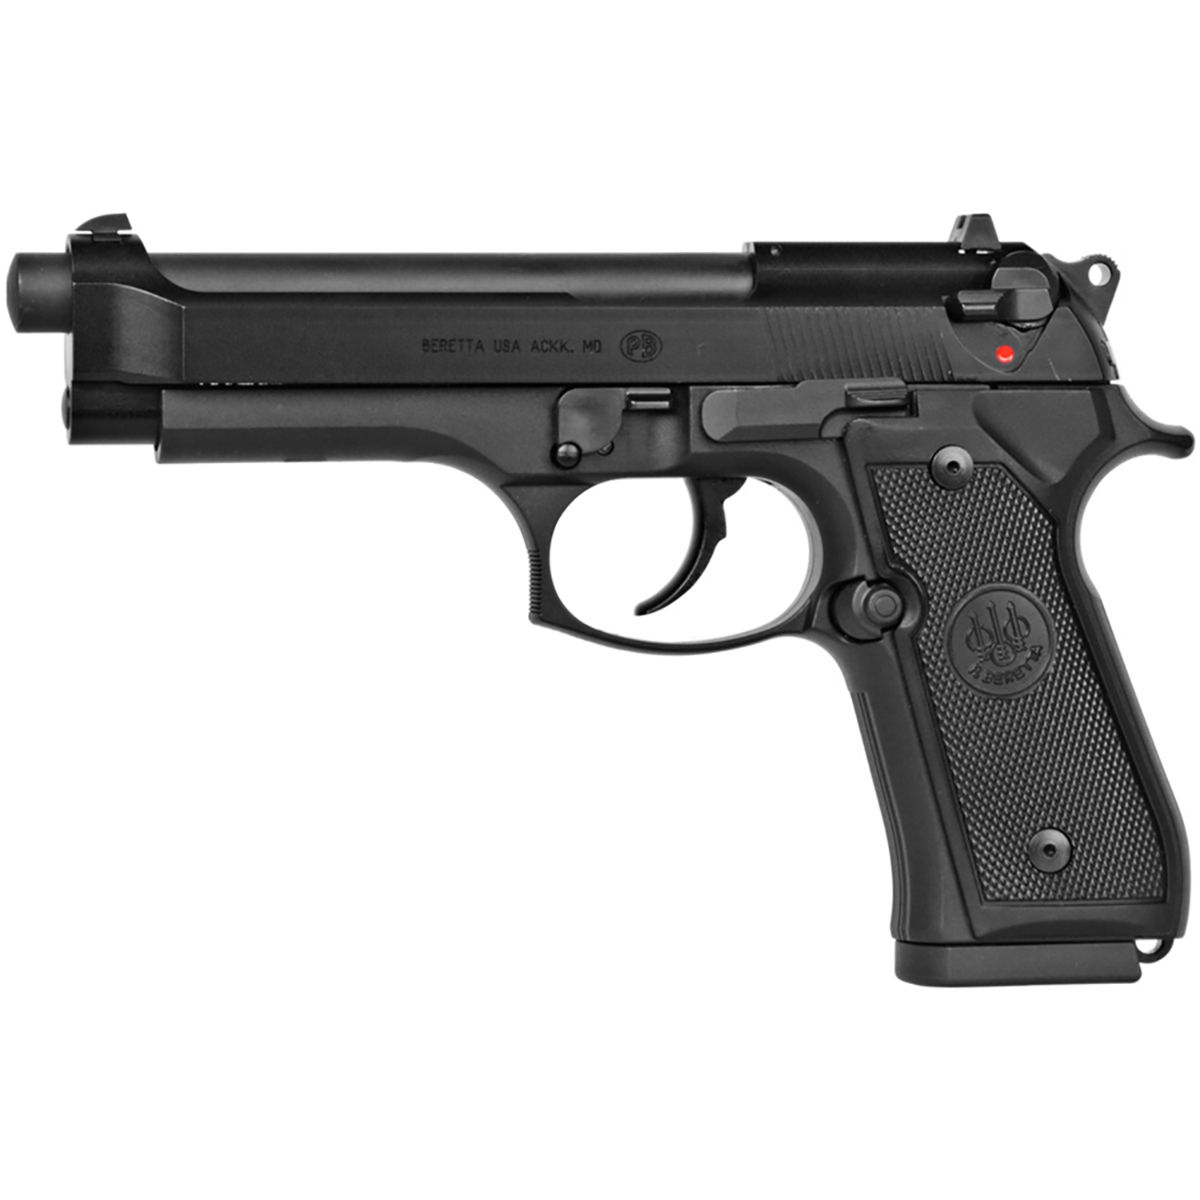gun: (4, 192, 1198, 1004)
